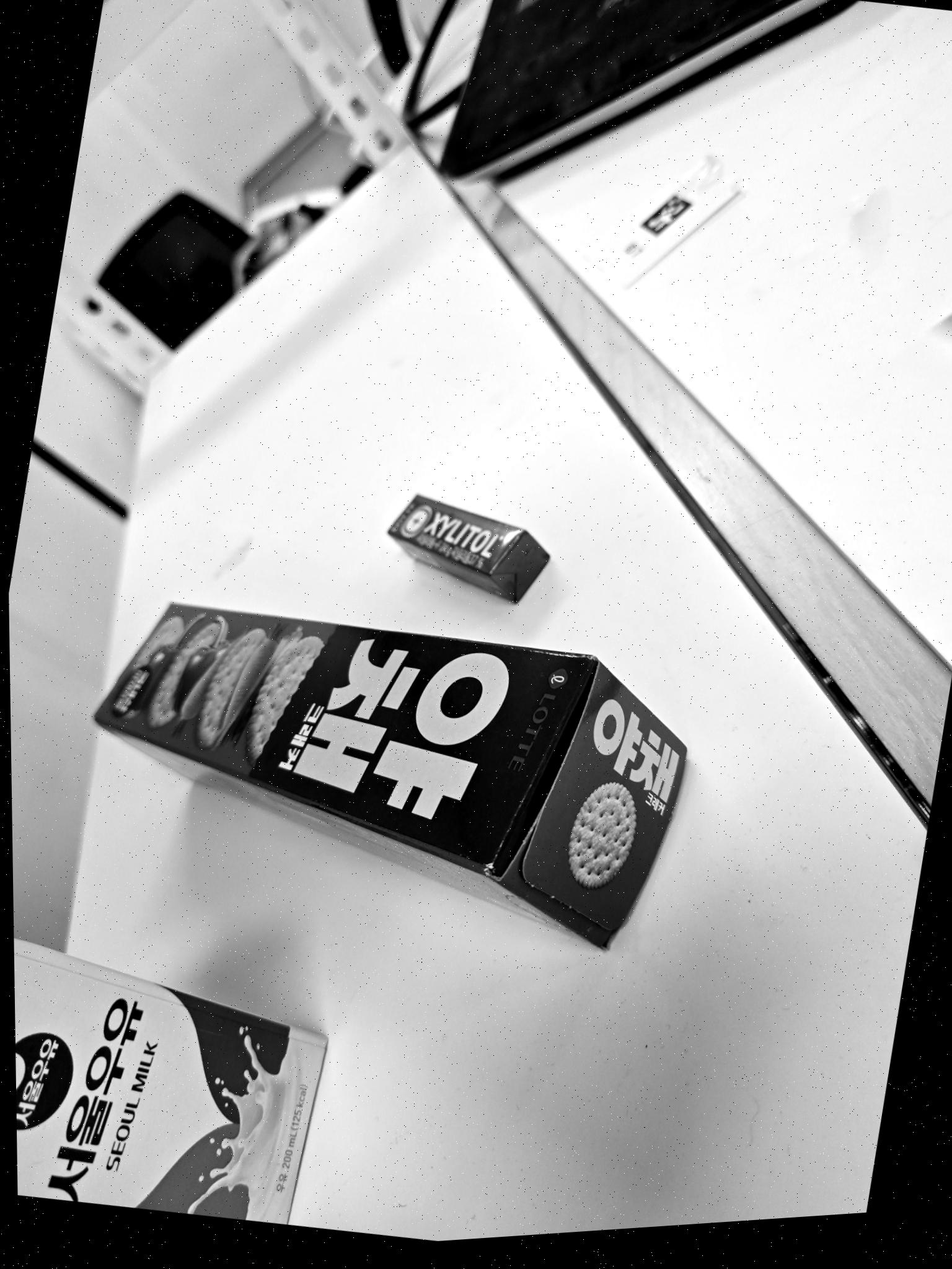cracker_vege: (95, 604, 687, 945)
gum_green: (388, 495, 549, 601)
milk_green: (14, 939, 326, 1224)
